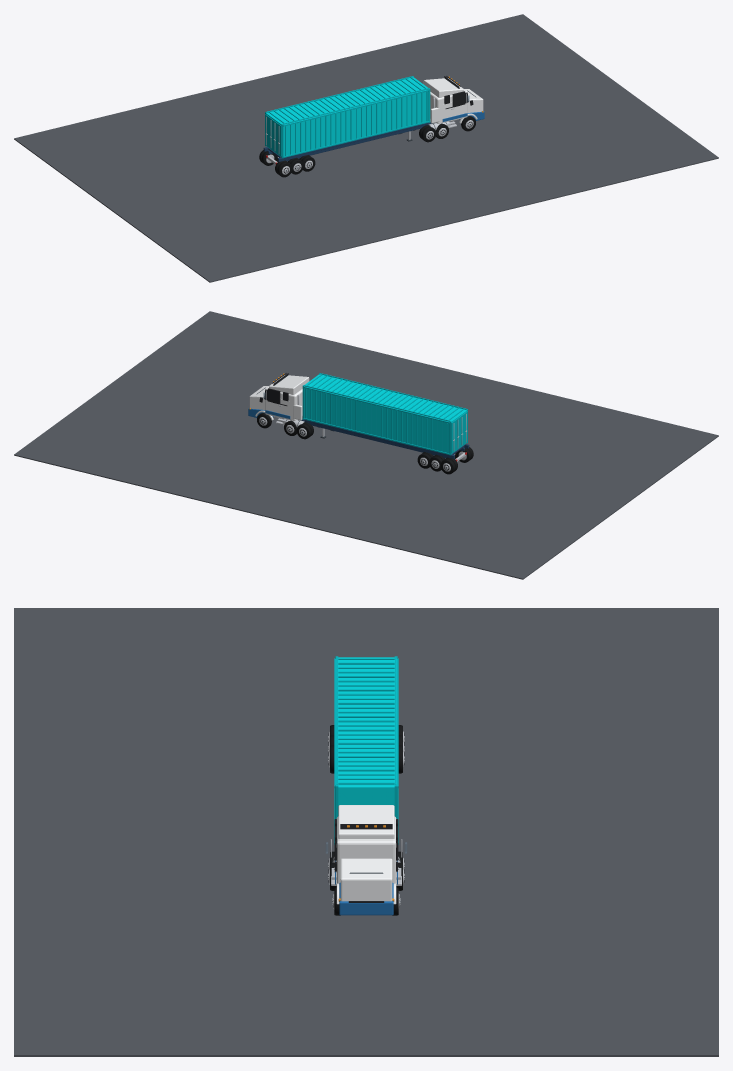
The model's file is camion.glb.
The picture shows the model from 3 angles, top to bottom: view 1: azimuth 30°, elevation 25°; view 2: azimuth 150°, elevation 25°; view 3: azimuth 270°, elevation 25°; orthographic projection. The views are drawn at different scales.
Parts seen in each view (by area): view 1: Preview_Ground, Container_Body, Container, Cab_Roof; view 2: Preview_Ground, Container_Body, Container, Cab_Roof; view 3: Preview_Ground, Container_Body, Container, Cab_Nose, Cab_Roof, Cab_Main, Cab_BumperBlue.
Part boxes in pixels (x1,y1,x2,y2): Preview_Ground: [14, 14, 718, 282]; Container_Body: [266, 77, 428, 156]; Container: [268, 77, 427, 155]; Cab_Roof: [423, 78, 463, 97]; Preview_Ground: [14, 311, 718, 579]; Container_Body: [304, 374, 466, 453]; Container: [305, 374, 464, 452]; Cab_Roof: [269, 375, 309, 394]; Preview_Ground: [14, 608, 718, 1056]; Container_Body: [336, 657, 396, 805]; Container: [334, 658, 398, 818]; Cab_Nose: [340, 858, 392, 901]; Cab_Roof: [338, 805, 394, 838]; Cab_Main: [336, 816, 396, 883]; Cab_BumperBlue: [339, 882, 393, 915].
Bounding box in the file's own units: 42 × 4.23 × 28.
